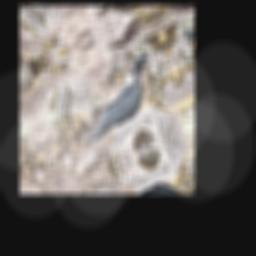Crow: (64, 52, 166, 149)
